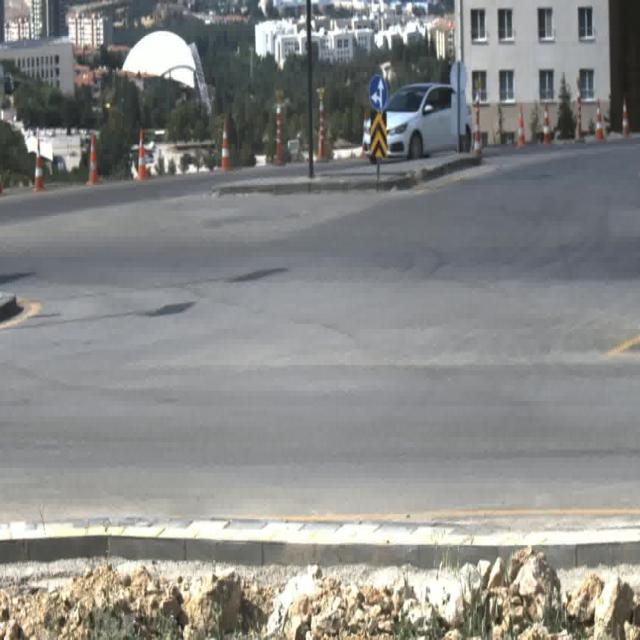Car: (364, 82, 473, 160)
